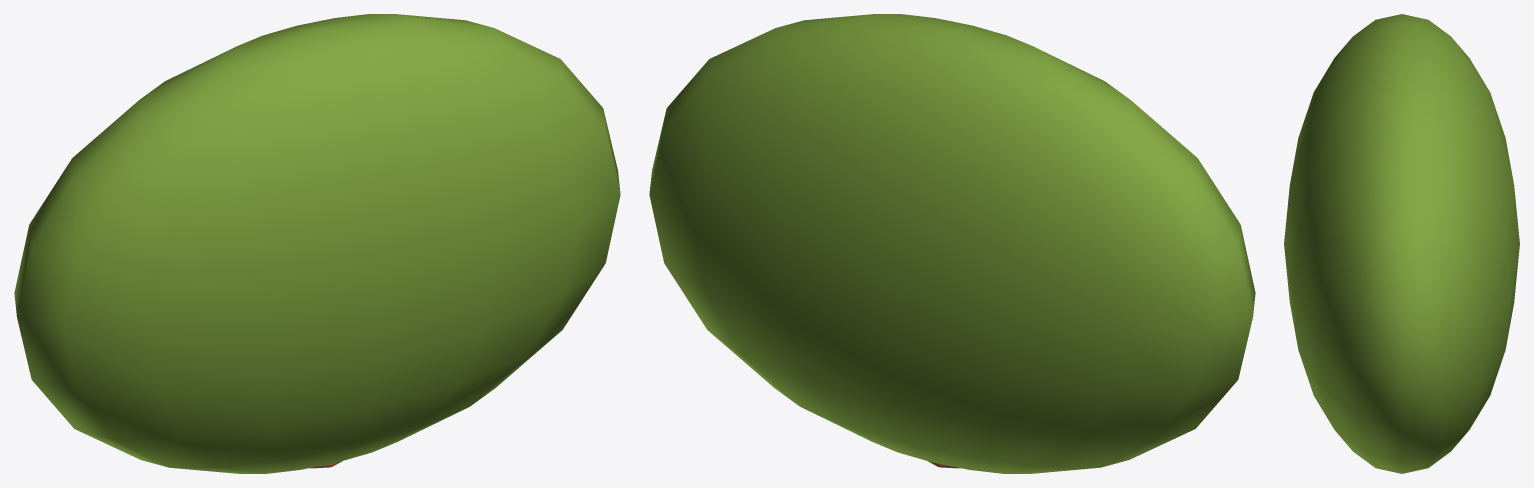
3 renders of one model, left to right at view 1: azimuth 30°, elevation 25°; view 2: azimuth 150°, elevation 25°; view 3: azimuth 270°, elevation 25°, orthographic. The views are drawn at different scales.
Visible parts, largest first — view 1: crownProxy; view 2: crownProxy; view 3: crownProxy.
Boxes of the visible parts, x1,y1,x2,y2 form: crownProxy: [14, 14, 620, 473]; crownProxy: [649, 14, 1255, 473]; crownProxy: [1284, 14, 1519, 473].
Bounding box in the file's own units: 2.3 × 1.56 × 0.8811.
